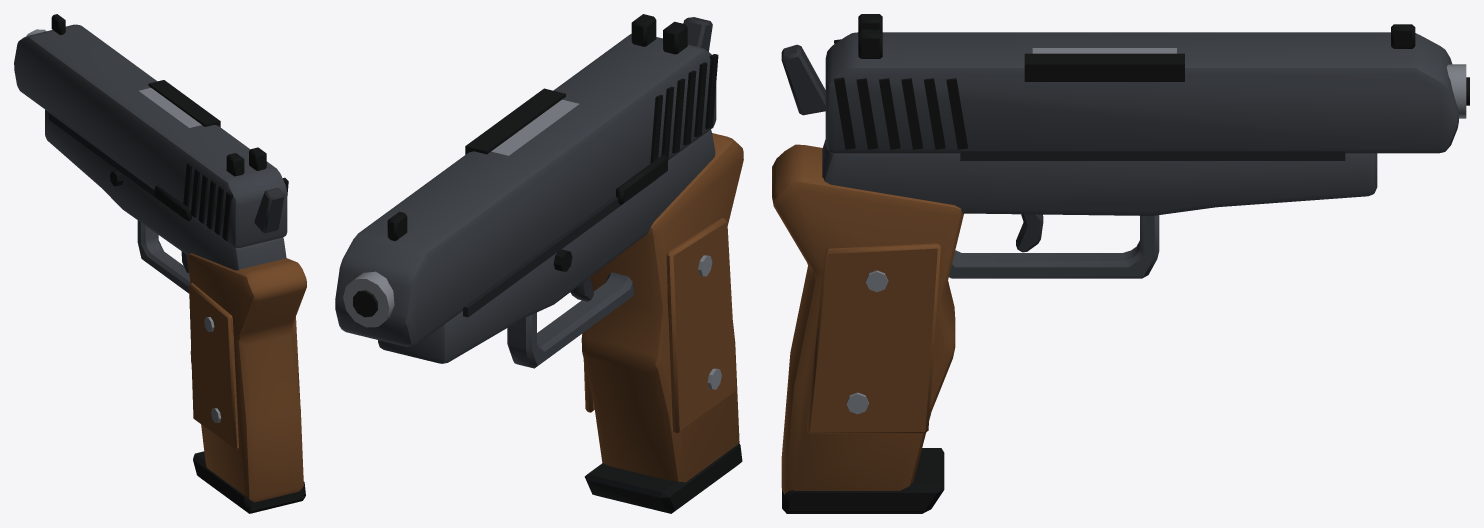
File: gun_01.glb
3 renders of one model, left to right at view 1: azimuth 30°, elevation 25°; view 2: azimuth 150°, elevation 25°; view 3: azimuth 270°, elevation 25°, orthographic. The views are drawn at different scales.
Parts seen in each view (by area): view 1: gun_01; view 2: gun_01; view 3: gun_01.
Boxes of the visible parts, bbox=[...] form: gun_01: bbox=[14, 14, 306, 513]; gun_01: bbox=[335, 14, 743, 513]; gun_01: bbox=[772, 14, 1469, 513].
Size of the model in its own units: 0.0387 by 0.1702 by 0.2285.
